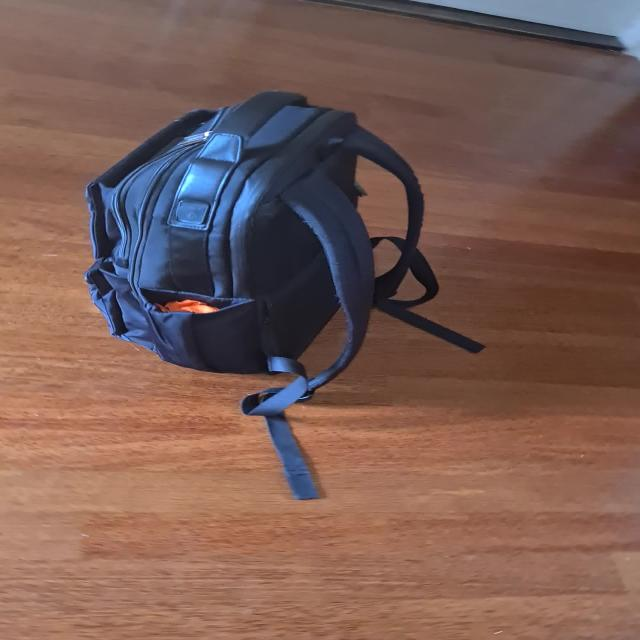backpack: (73, 79, 403, 382)
